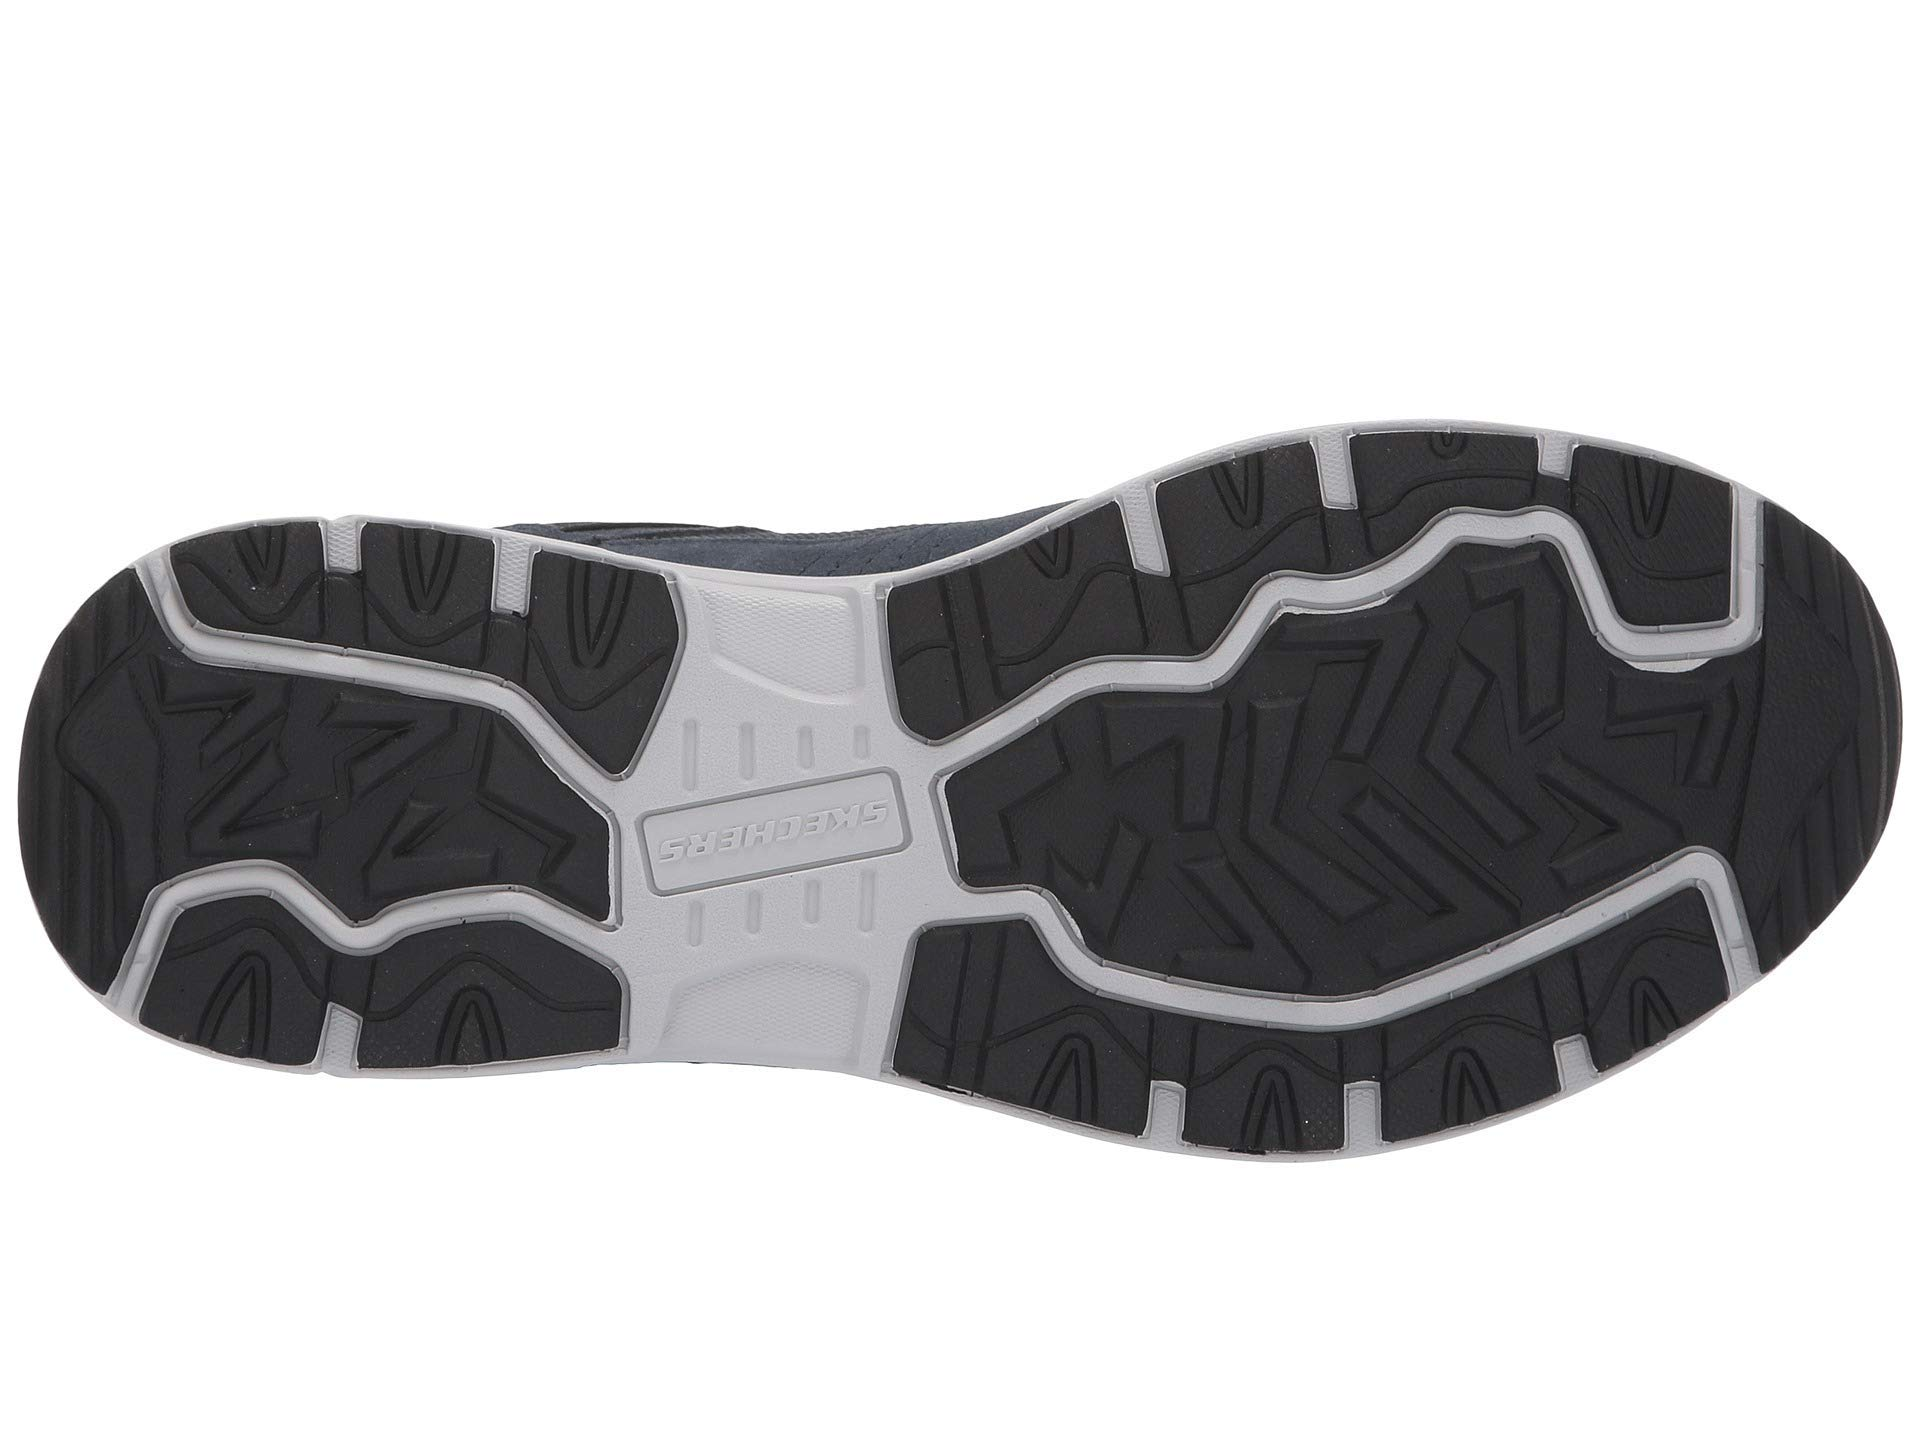chevron: (1181, 655, 1571, 933), (163, 644, 547, 900)
line: (163, 644, 547, 900), (1001, 974, 1435, 1134), (679, 567, 1079, 731), (618, 765, 934, 897), (51, 619, 139, 965), (1163, 455, 1336, 616)
quad: (1001, 974, 1435, 1134), (679, 567, 1079, 731), (618, 765, 934, 897), (1163, 455, 1336, 616)
text: (618, 765, 934, 897)
triangle: (1001, 974, 1435, 1134), (1163, 455, 1336, 616)
